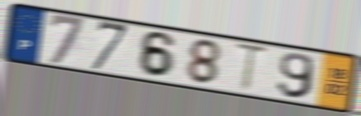6: (135, 30, 181, 80)
7: (47, 12, 88, 68), (89, 19, 132, 72)
8: (184, 38, 224, 86)
9: (275, 52, 317, 101)
T: (233, 41, 272, 95)
